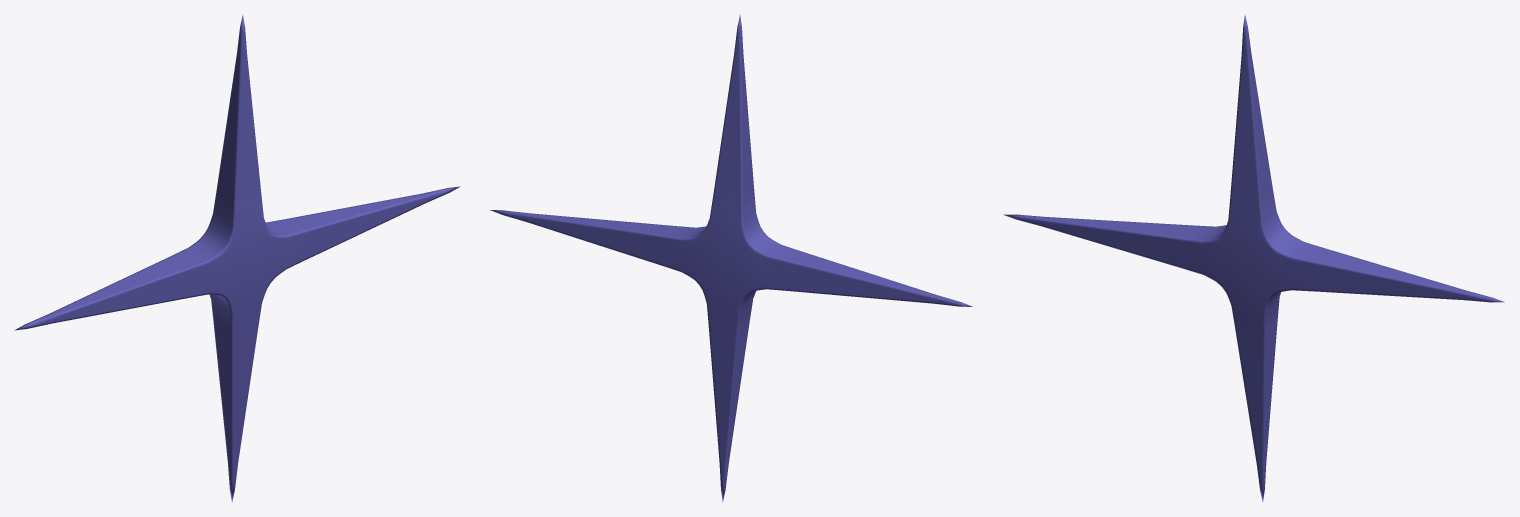
Rendered from star-simple.glb.
The picture shows the model from 3 angles, left to right: view 1: azimuth 30°, elevation 25°; view 2: azimuth 150°, elevation 25°; view 3: azimuth 330°, elevation 25°; orthographic projection. The views are drawn at different scales.
Visible parts, largest first — view 1: star; view 2: star; view 3: star.
Boxes of the visible parts, left/top/right/bottom form: star: left=14, top=14, right=460, bottom=502; star: left=490, top=14, right=972, bottom=502; star: left=1003, top=15, right=1504, bottom=501.
Bounding box in the file's own units: 1.97 × 1.98 × 0.2117.
